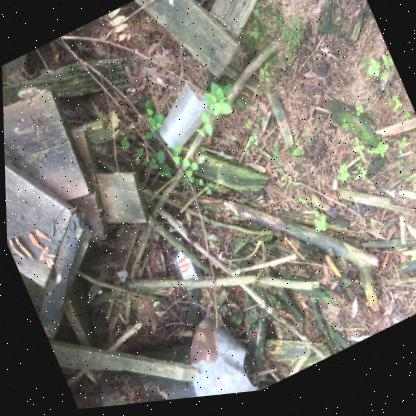Metal: (187, 322, 255, 401)
Plastic: (157, 84, 211, 154)
